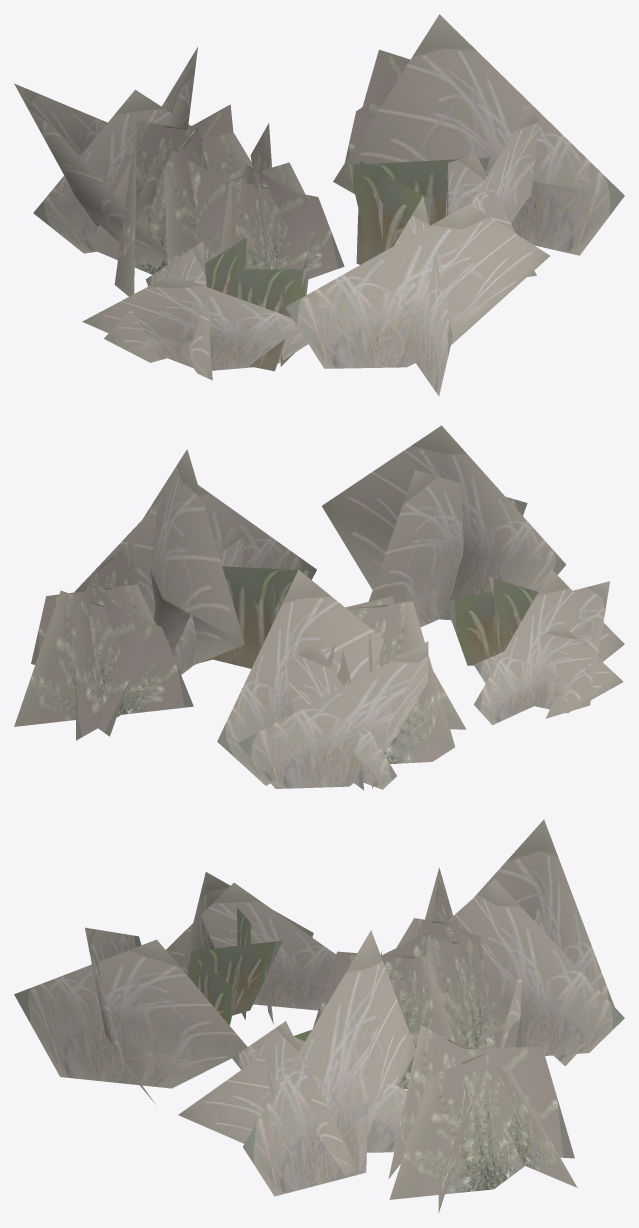
File: prop_grass_ca.FBX
The picture shows the model from 3 angles, top to bottom: view 1: azimuth 30°, elevation 25°; view 2: azimuth 150°, elevation 25°; view 3: azimuth 270°, elevation 25°; orthographic projection. The views are drawn at different scales.
Parts seen in each view (by area): view 1: prop_grass_ca; view 2: prop_grass_ca; view 3: prop_grass_ca.
Boxes of the visible parts, x1=… form: prop_grass_ca: x1=14, y1=14, x2=624, y2=396; prop_grass_ca: x1=14, y1=425, x2=624, y2=790; prop_grass_ca: x1=14, y1=819, x2=624, y2=1212.
Bounding box in the file's own units: 2.75 × 2.85 × 1.17.
1 material, 1 textured.
